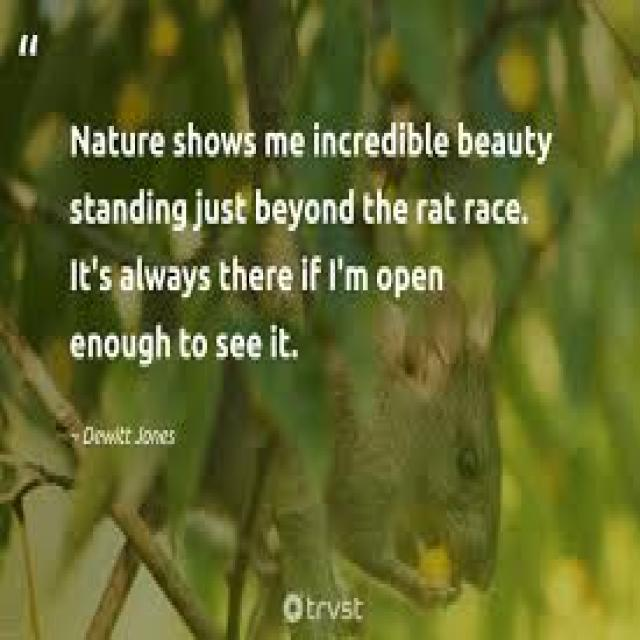rat: (319, 276, 503, 612)
